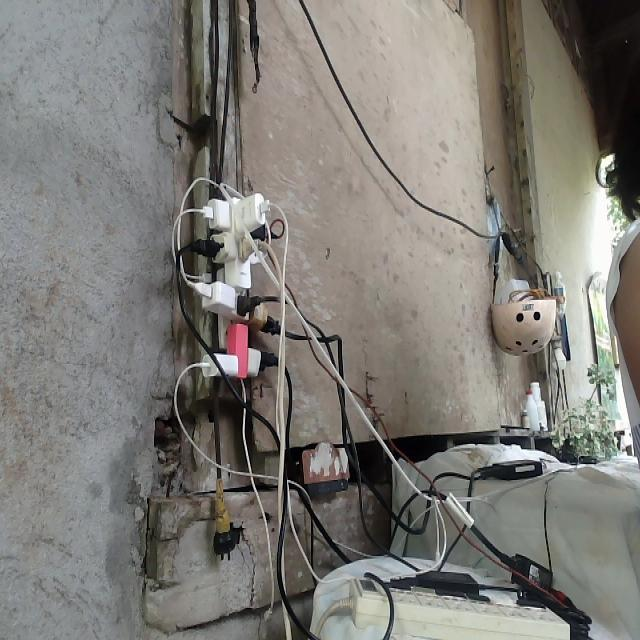-: (185, 177, 287, 383)
